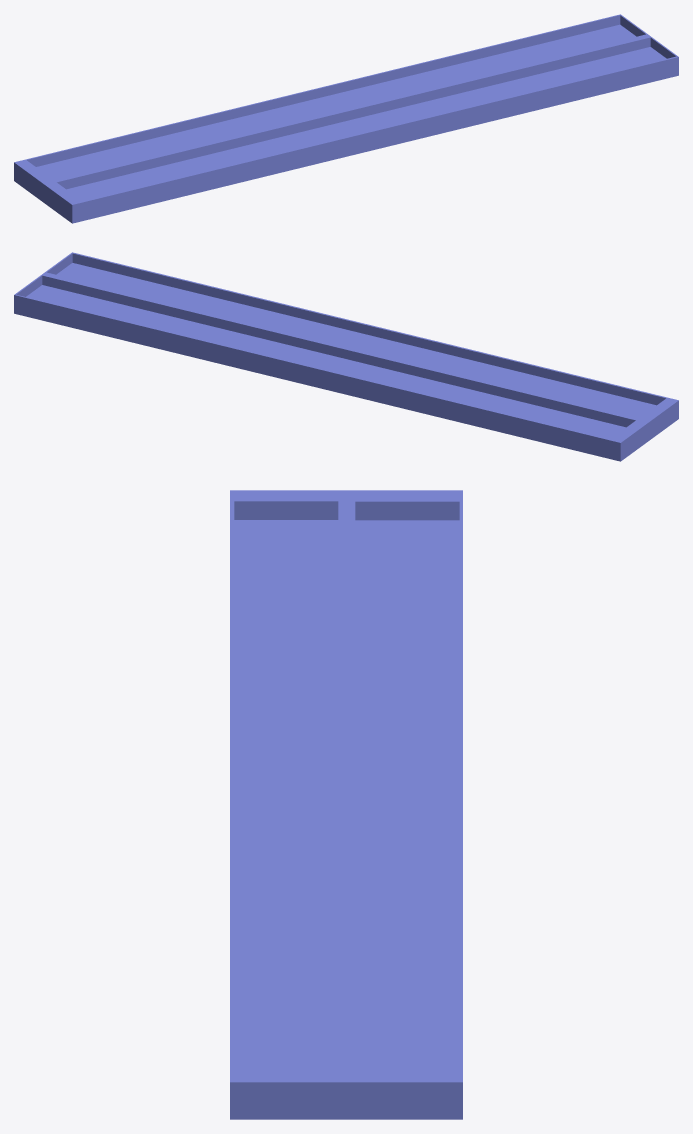
Rendered from C1C2_Sedimentation_Tanks.glb.
The picture shows the model from 3 angles, top to bottom: view 1: azimuth 30°, elevation 25°; view 2: azimuth 150°, elevation 25°; view 3: azimuth 270°, elevation 25°; orthographic projection. The views are drawn at different scales.
Parts seen in each view (by area): view 1: Floor1; view 2: Floor1; view 3: Floor1.
Part boxes in pixels (x1=…): Floor1: x1=14, y1=14, x2=678, y2=223; Floor1: x1=14, y1=252, x2=678, y2=461; Floor1: x1=230, y1=490, x2=462, y2=1119.
Size of the model in its own units: 136 by 4 by 22.61.
